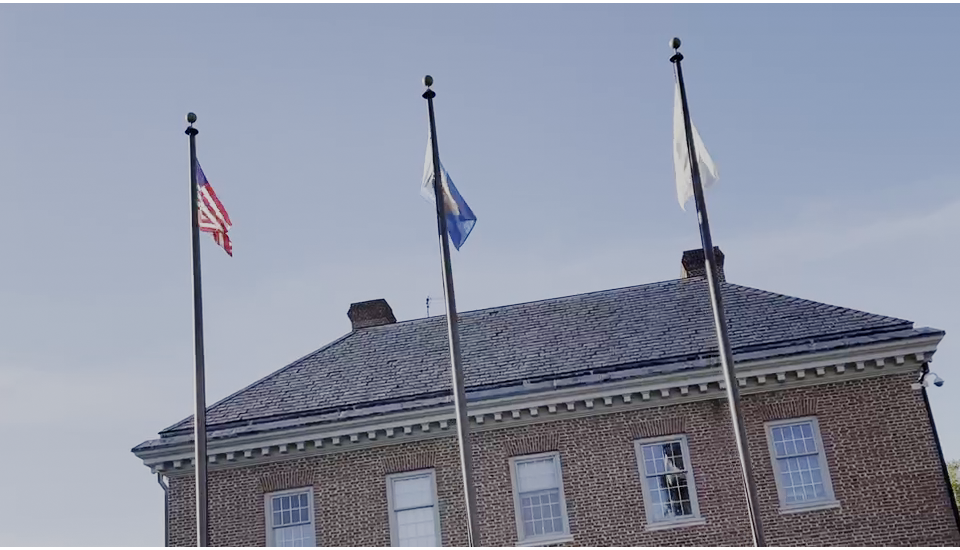America flag: (190, 146, 241, 263)
Delaware flag: (418, 132, 486, 247)
